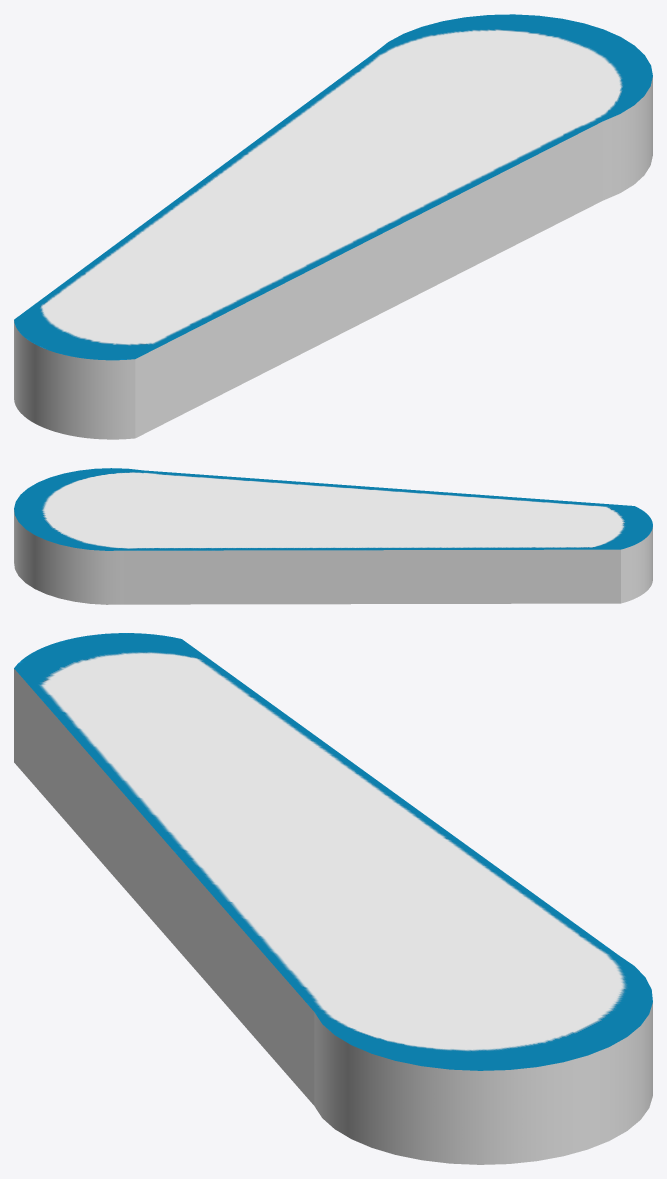
Rendered from Blue Flipper.FBX.
The picture shows the model from 3 angles, top to bottom: view 1: azimuth 30°, elevation 25°; view 2: azimuth 150°, elevation 25°; view 3: azimuth 270°, elevation 25°; orthographic projection. The views are drawn at different scales.
Parts seen in each view (by area): view 1: Arc003; view 2: Arc003; view 3: Arc003.
Boxes of the visible parts, bbox=[...] form: Arc003: bbox=[14, 14, 652, 439]; Arc003: bbox=[14, 468, 652, 604]; Arc003: bbox=[14, 633, 652, 1164].
Size of the model in its own units: 79.89 by 8 by 49.27.
Materials: 1 (1 with a texture image).
